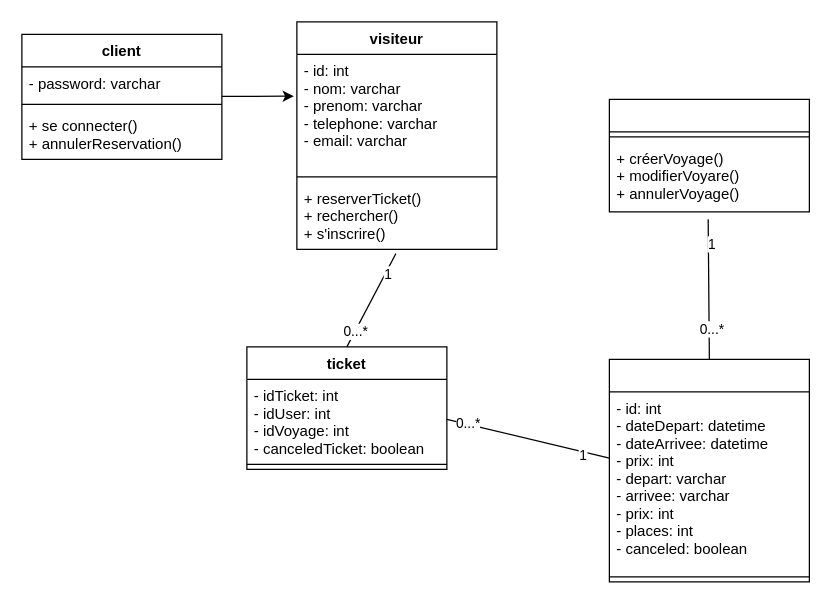
Image size: 831x604. Some labels were removed from this diagram. Here are the shapes that lost their labels. From the top down, the box of each, then its label:
(608, 98, 809, 212): admin
(608, 358, 809, 582): voyage
